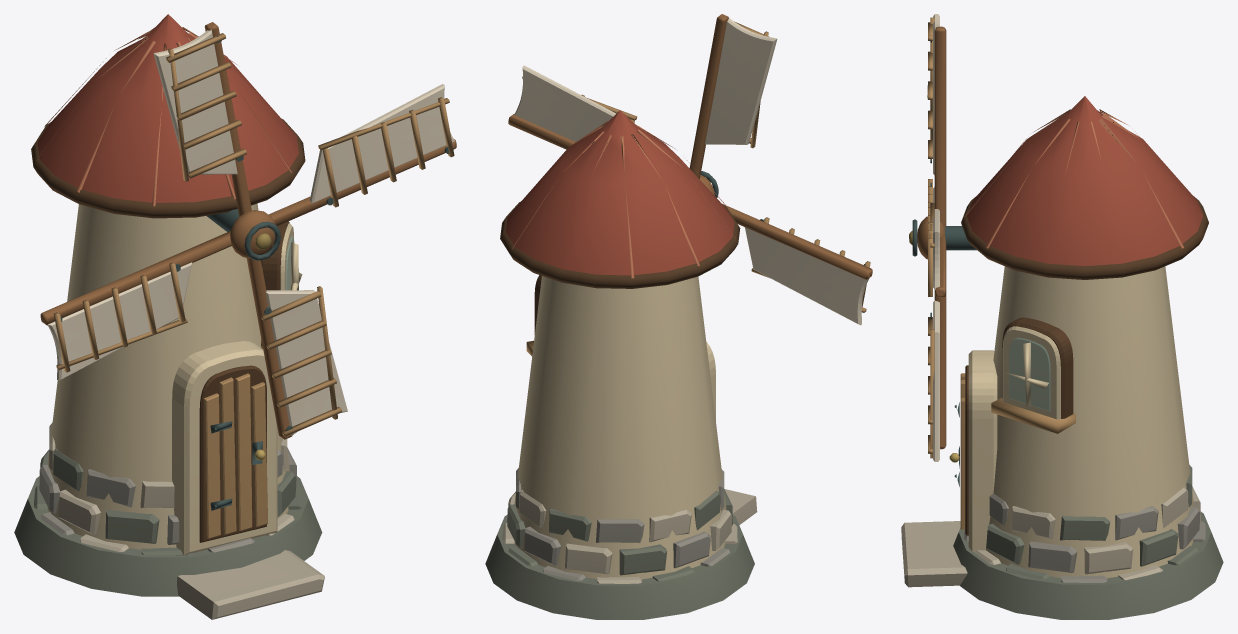
Rendered from molino_lod.glb.
The picture shows the model from 3 angles, left to right: view 1: azimuth 30°, elevation 25°; view 2: azimuth 150°, elevation 25°; view 3: azimuth 270°, elevation 25°; orthographic projection. The views are drawn at different scales.
Parts seen in each view (by area): view 1: molino, mo_rotor; view 2: molino, mo_rotor; view 3: molino, mo_rotor, mo_ventana_vidrio.
Boxes of the visible parts, left/top/right/bottom form: molino: left=14, top=14, right=324, bottom=619; mo_rotor: left=40, top=22, right=456, bottom=439; molino: left=485, top=110, right=757, bottom=619; mo_rotor: left=508, top=14, right=872, bottom=325; molino: left=901, top=96, right=1223, bottom=619; mo_rotor: left=909, top=14, right=946, bottom=461; mo_ventana_vidrio: left=1009, top=338, right=1050, bottom=411.
Bounding box in the file's own units: 2.82 × 3.76 × 2.12.
